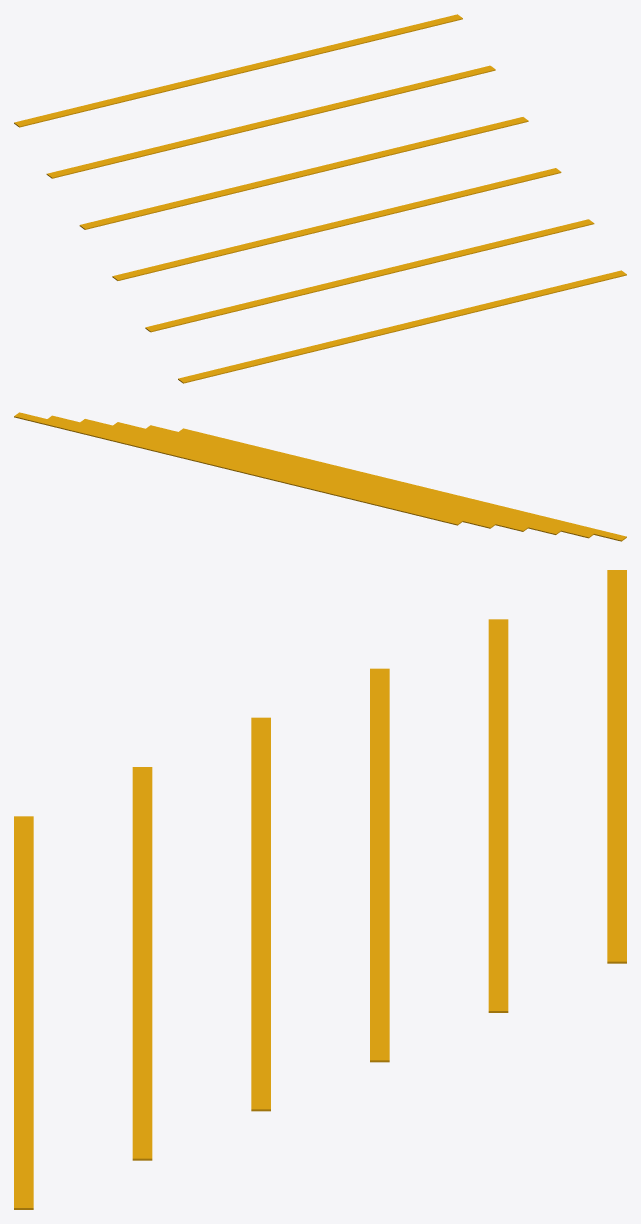
File: gteki_ik_stair_n6_r152_t332_w2609_nosing.glb
The picture shows the model from 3 angles, top to bottom: view 1: azimuth 30°, elevation 25°; view 2: azimuth 150°, elevation 25°; view 3: azimuth 270°, elevation 25°; orthographic projection. The views are drawn at different scales.
Parts seen in each view (by area): view 1: VIS_body; view 2: VIS_body; view 3: VIS_body.
Boxes of the visible parts, box(x1,y1,x2,y2) form: VIS_body: box(14, 14, 626, 383); VIS_body: box(14, 412, 626, 541); VIS_body: box(14, 570, 626, 1209).
Size of the model in its own units: 2.59 by 0.766 by 1.72.
Materials: 1 (1 with a texture image).
